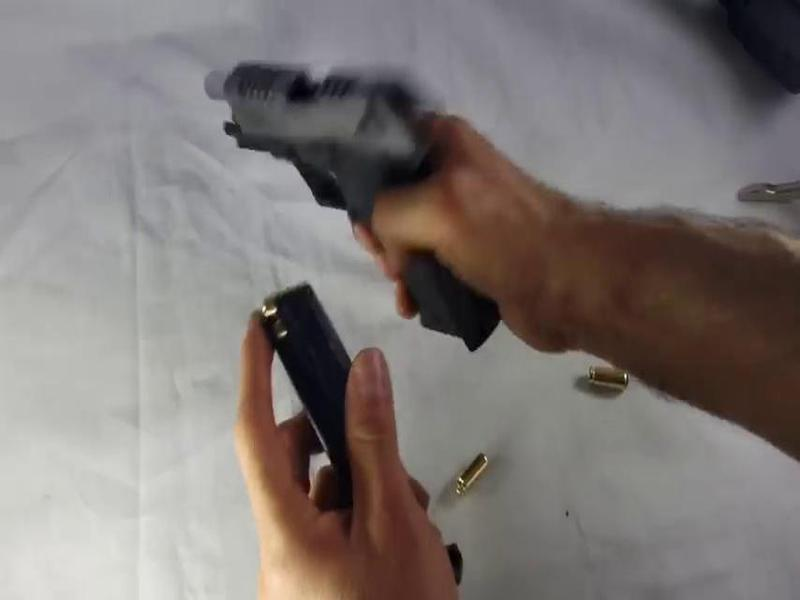Pistola: (192, 29, 504, 335)
